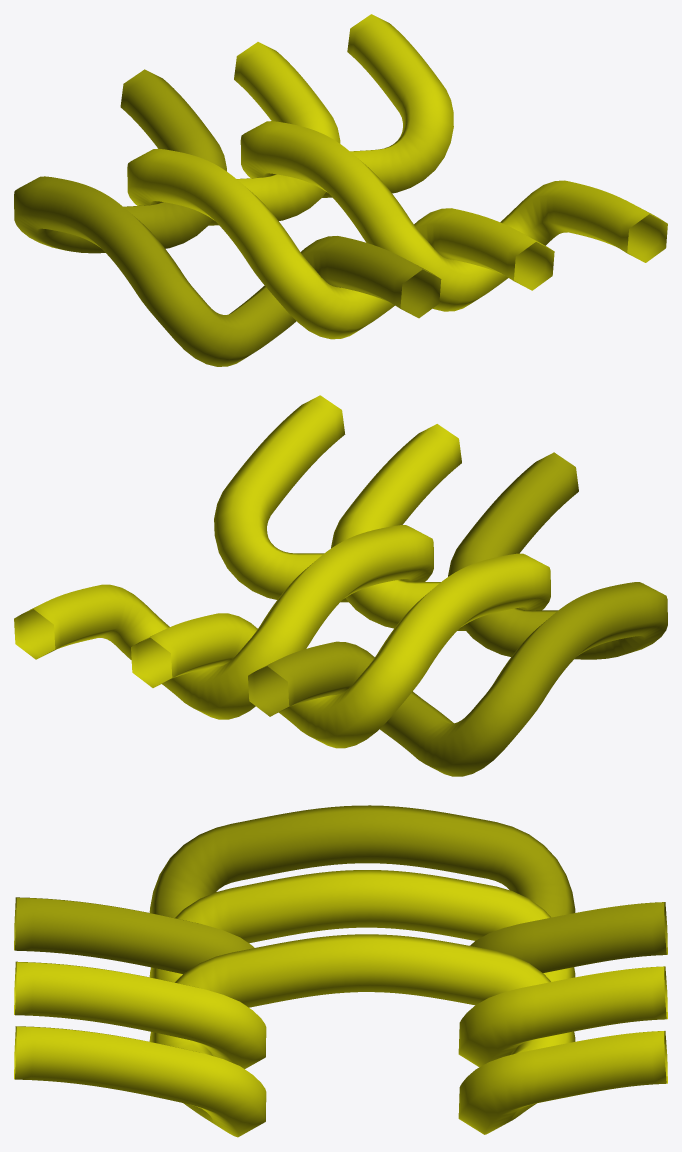
File: stich1.obj
3 renders of one model, top to bottom at view 1: azimuth 30°, elevation 25°; view 2: azimuth 150°, elevation 25°; view 3: azimuth 270°, elevation 25°, orthographic. The views are drawn at different scales.
Size of the model in its own units: 1.93 by 0.5024 by 2.15.
